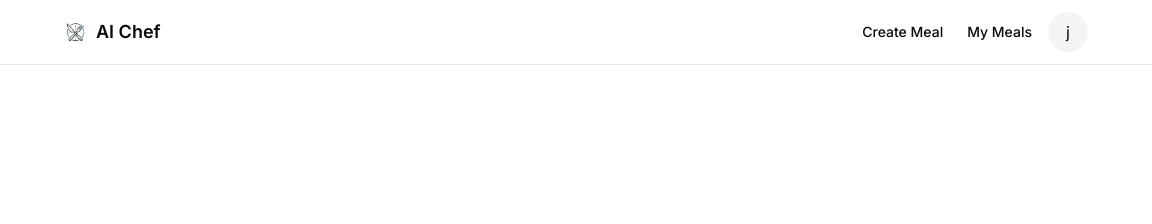
Test: MainNav › renders a main navbar with someone signed in and shows dropdown menu on click
Expected: the text "AI Chef" is shown, [96, 18, 160, 46]
Expected: the link "Create Meal" is shown, [862, 22, 943, 42]
Click the text "j".
click(1068, 32)  # box [1048, 12, 1088, 52]
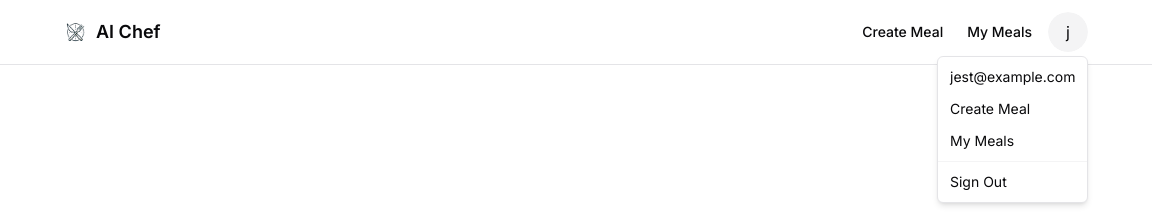
Expected: the text "jest@example.com" is shown, [950, 67, 1076, 87]
Expected: the menu item "Sign Out" is shown, [950, 173, 1007, 190]
